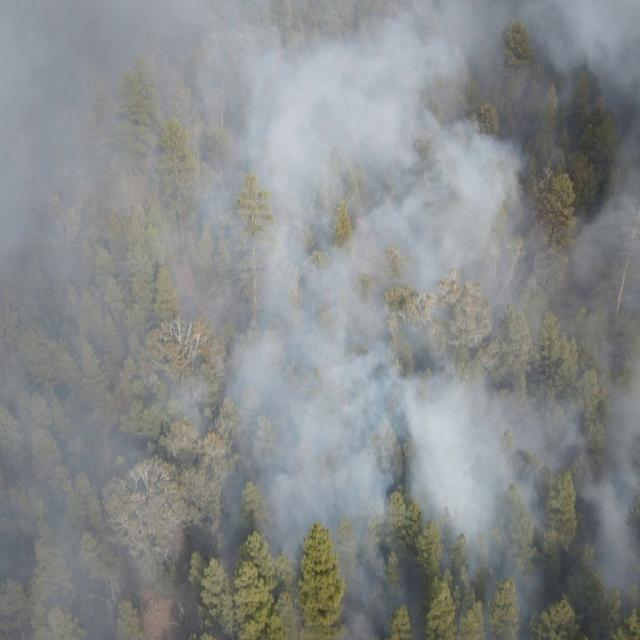smoke: (0, 0, 640, 520), (330, 521, 640, 640), (0, 520, 304, 639)
